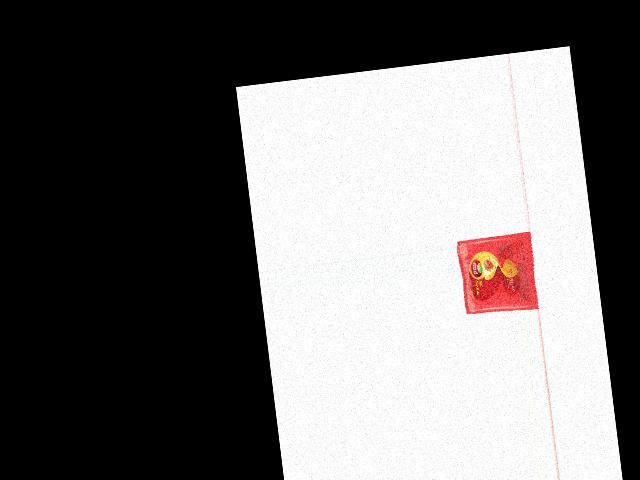cheese: (456, 230, 540, 315)
